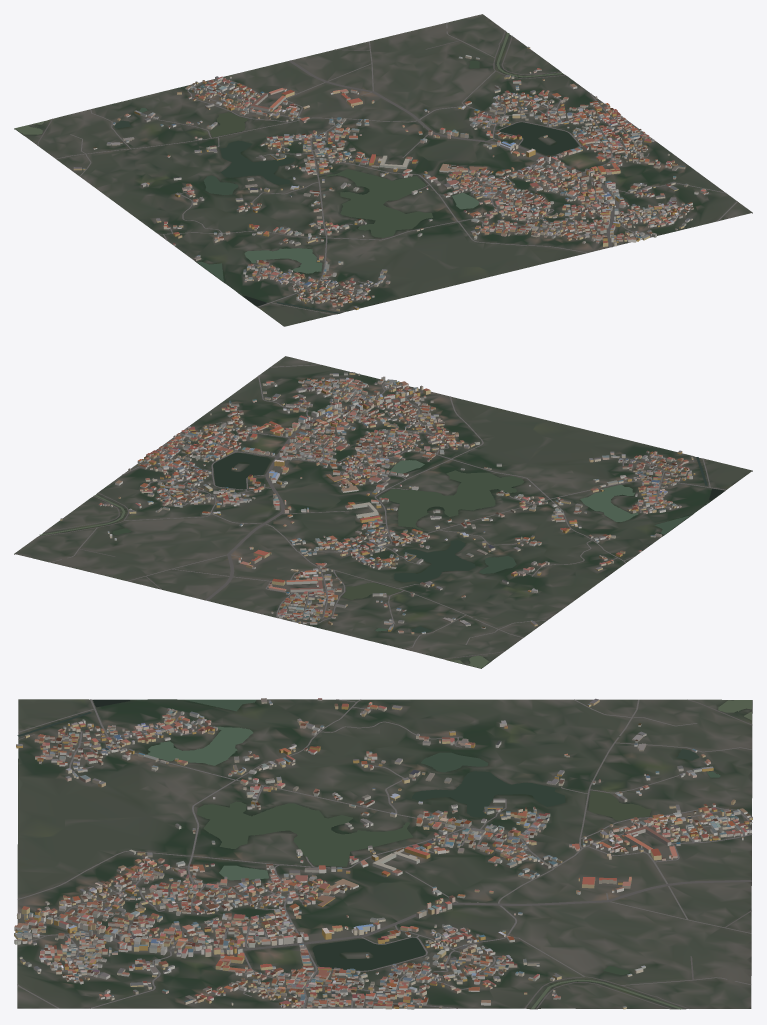
The picture shows the model from 3 angles, top to bottom: view 1: azimuth 30°, elevation 25°; view 2: azimuth 150°, elevation 25°; view 3: azimuth 270°, elevation 25°; orthographic projection. The views are drawn at different scales.
Parts seen in each view (by area): view 1: ground, buildings, water, roads; view 2: ground, buildings, water, roads; view 3: ground, buildings, water, roads.
Boxes of the visible parts, x1,y1,x2,y2 form: ground: (14, 14, 752, 326); buildings: (73, 46, 708, 311); water: (15, 33, 578, 313); roads: (37, 22, 737, 314); ground: (14, 356, 752, 668); buildings: (60, 372, 695, 634); water: (39, 453, 724, 668); roads: (36, 364, 725, 659); ground: (17, 699, 752, 1009); buildings: (14, 698, 752, 1009); water: (17, 699, 751, 1009); roads: (17, 699, 752, 1008).
Bounding box in the file's own units: 1404 × 19.36 × 1411.
